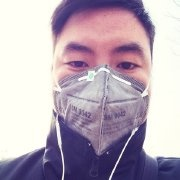Mask: (60, 41, 149, 129)
